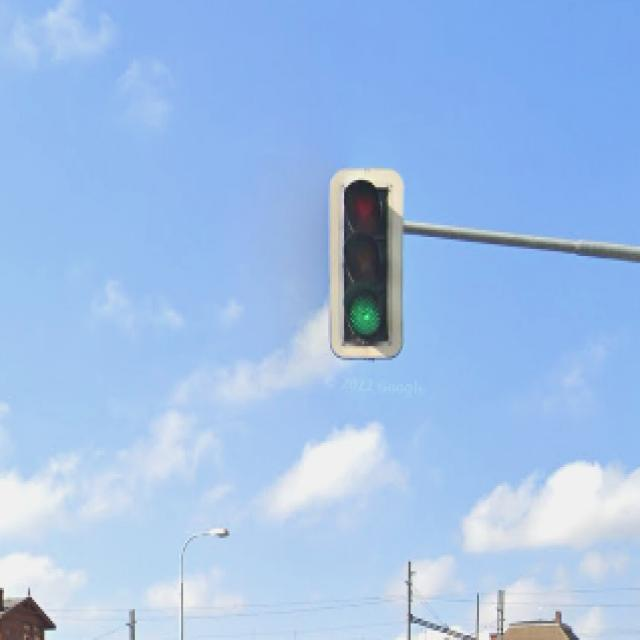green_light: (333, 169, 402, 360)
